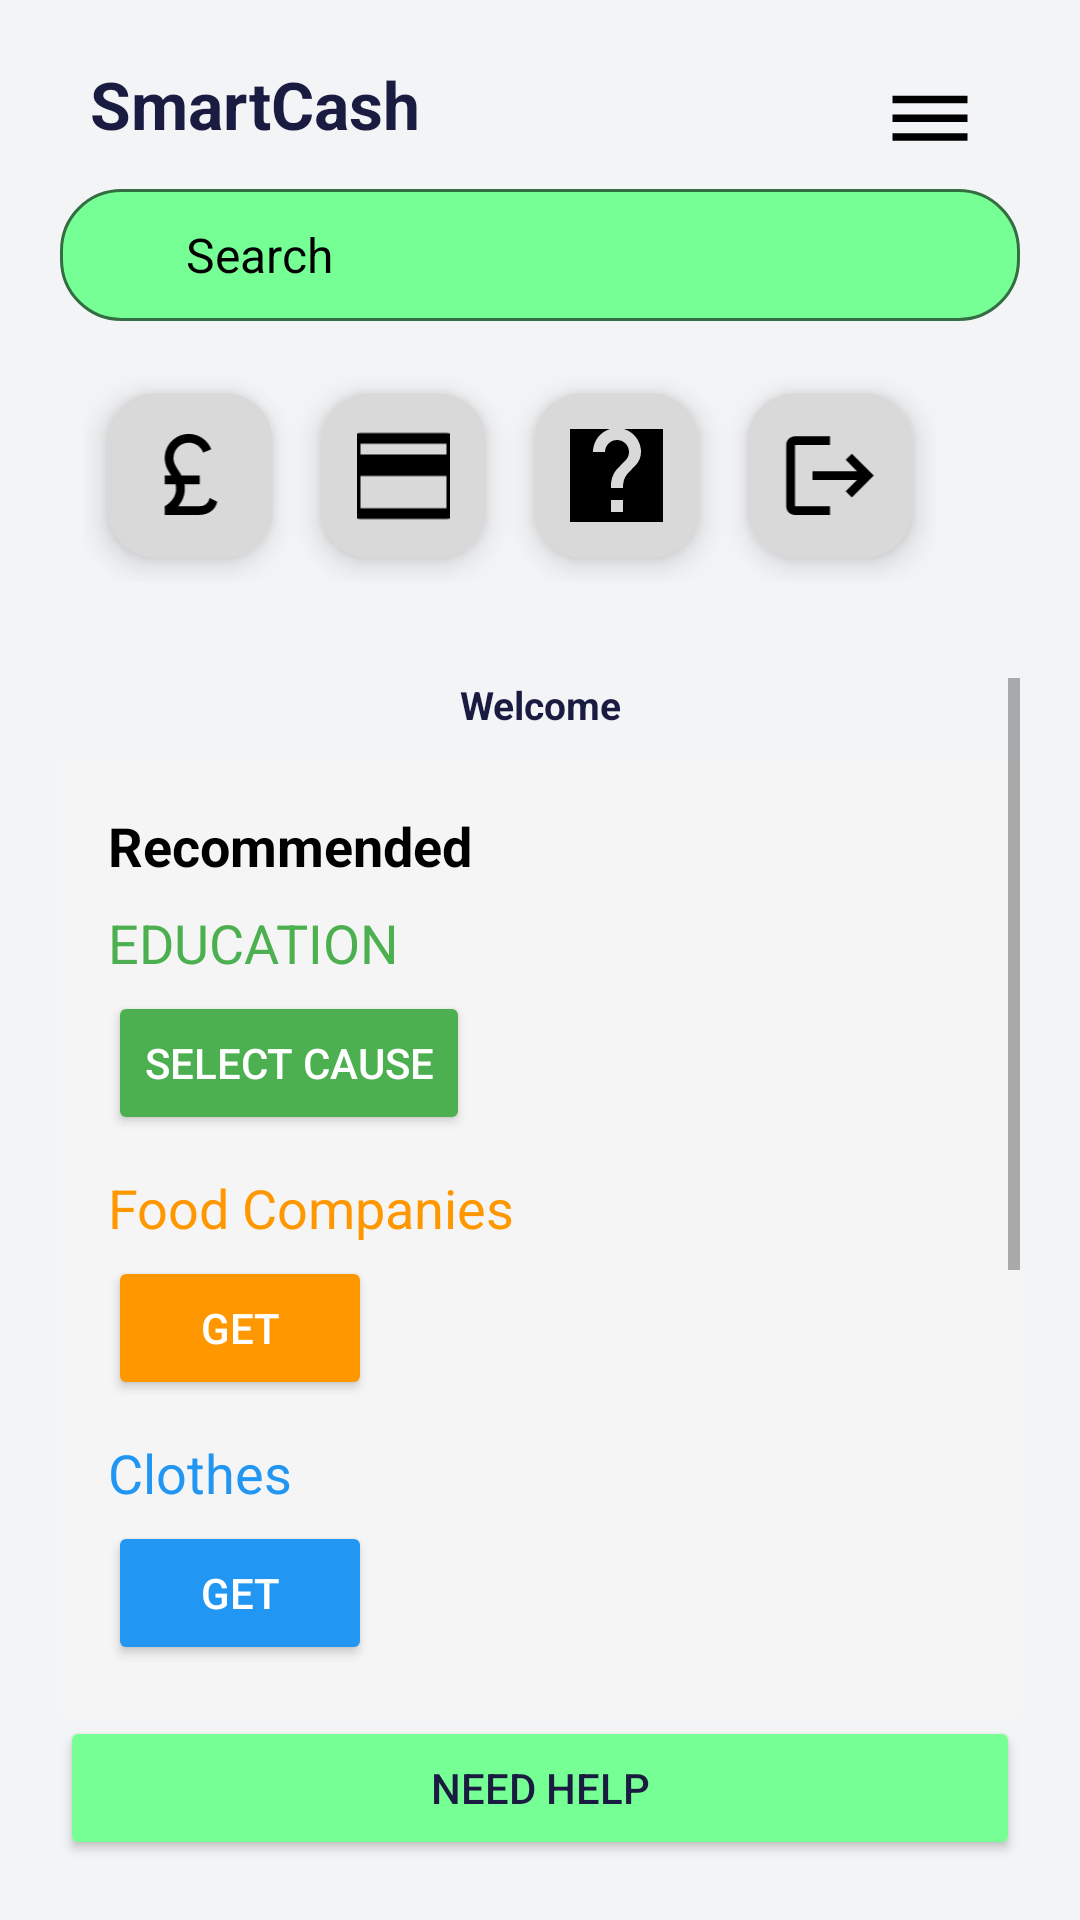

Named icons in this screenshot (1080 x 1920) and their centers, point (x, y):
interest: point (191, 474)
Menu Icon: point (930, 118)
payment: point (403, 476)
